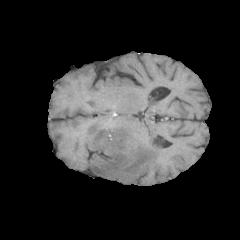glioma: (64, 123, 187, 179)
